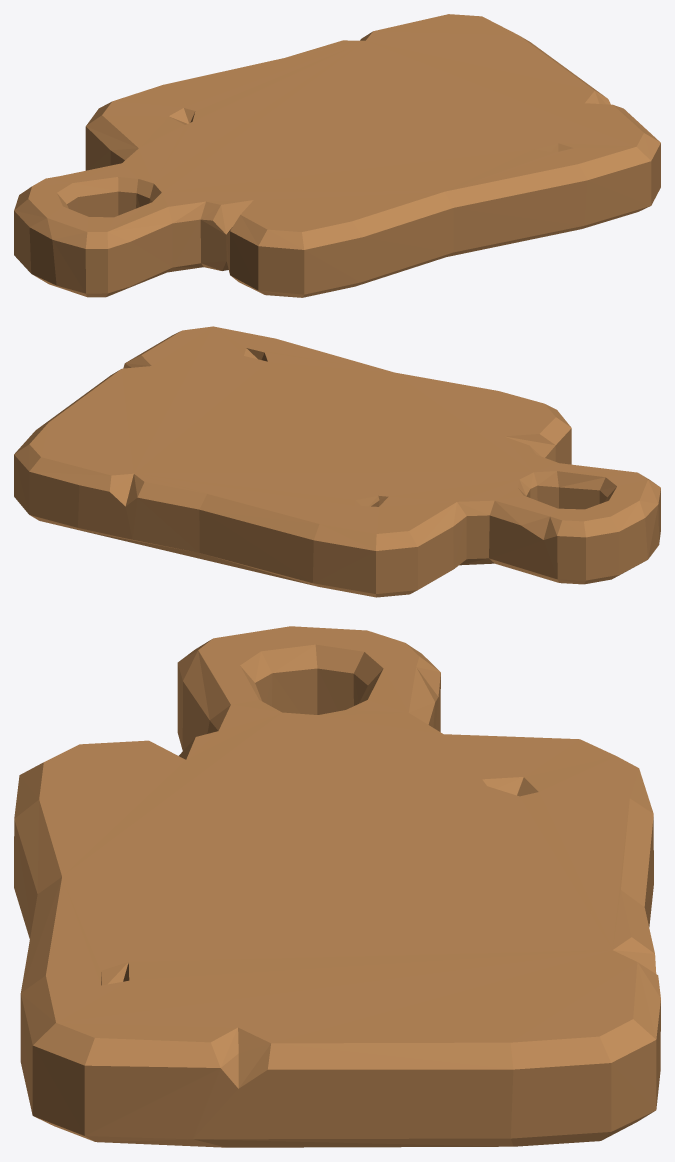
File: CuttingBoard.fbx
The picture shows the model from 3 angles, top to bottom: view 1: azimuth 30°, elevation 25°; view 2: azimuth 150°, elevation 25°; view 3: azimuth 270°, elevation 25°; orthographic projection. The views are drawn at different scales.
Parts seen in each view (by area): view 1: CuttingBoard; view 2: CuttingBoard; view 3: CuttingBoard.
Part boxes in pixels (box(x1,y1,x2,y2)): CuttingBoard: box(14, 14, 660, 297); CuttingBoard: box(14, 326, 660, 597); CuttingBoard: box(14, 626, 660, 1147).
Size of the model in its own units: 0.35 by 0.2194 by 0.0384.
